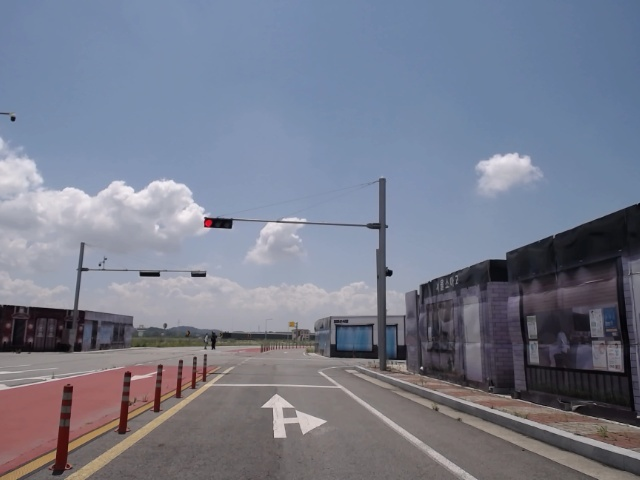red_3: (203, 218, 233, 231)
